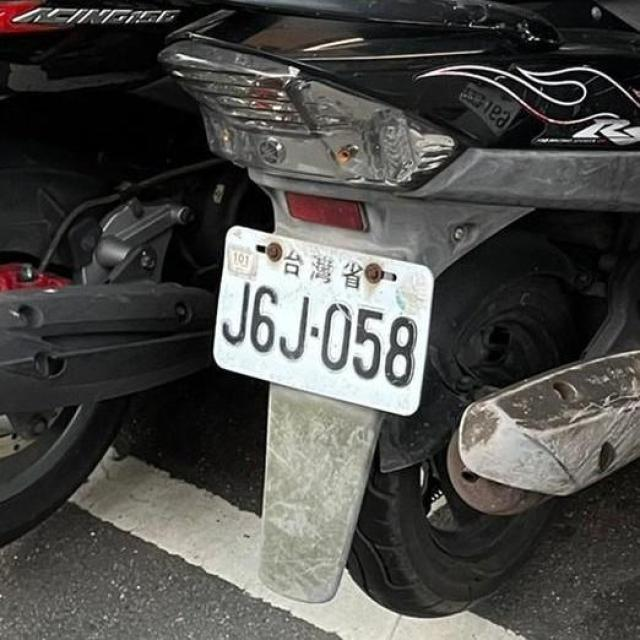W: (204, 215, 445, 424)
